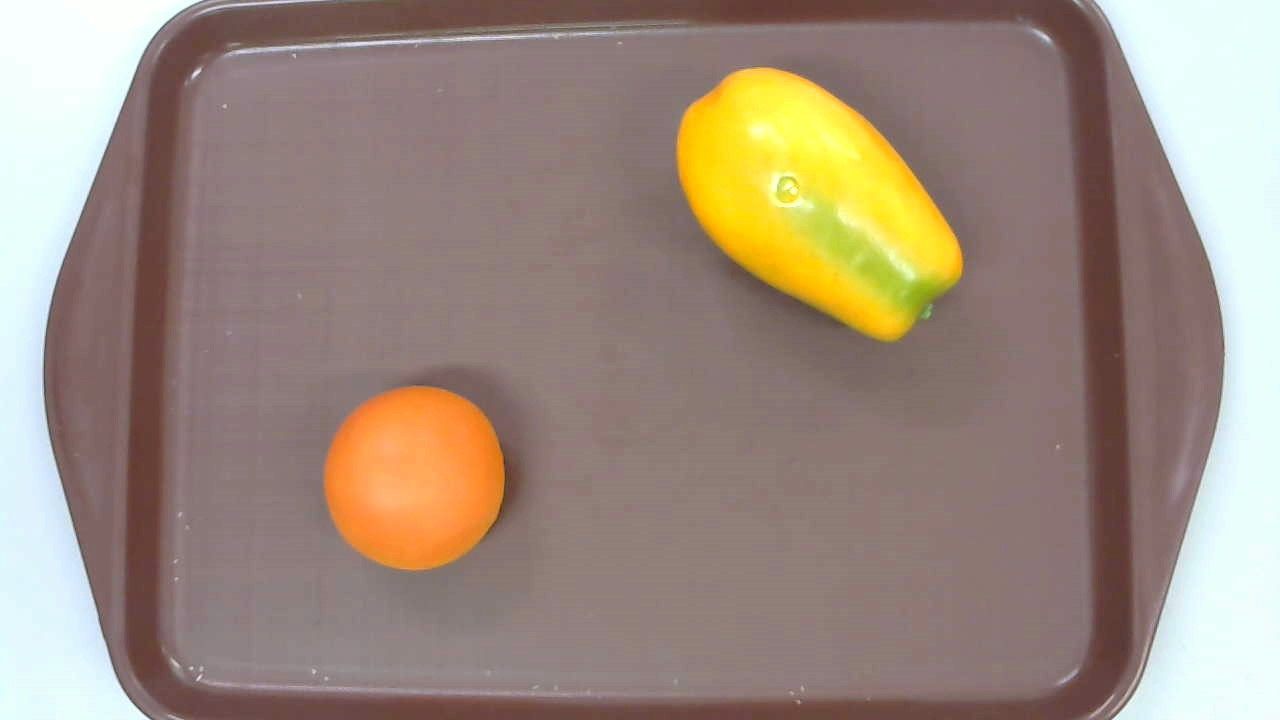bun: (324, 384, 504, 571)
papya: (675, 66, 962, 344)
